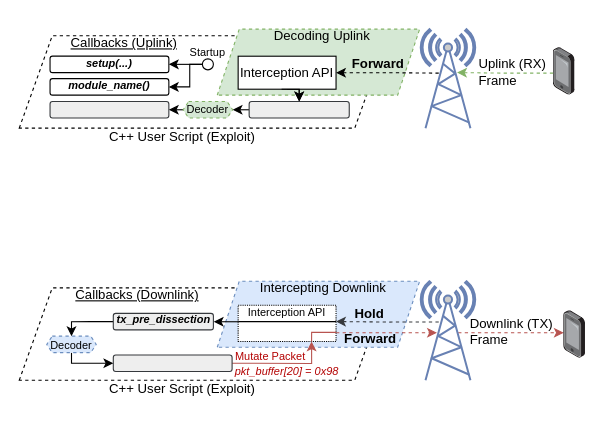
This 605x448 diagram has some shape labels left out. Here are the shapes that lost their labels. From the top down, the centre of each, then its label:
At point 109,109: "rx_post_dissection(...)".
At point 298,109: "rx_pre_dissection".
At point 172,362: "tx_post_dissection(...)".
